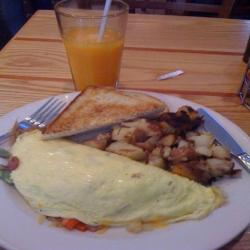bread: (50, 85, 168, 141)
omelette: (11, 139, 220, 231)
